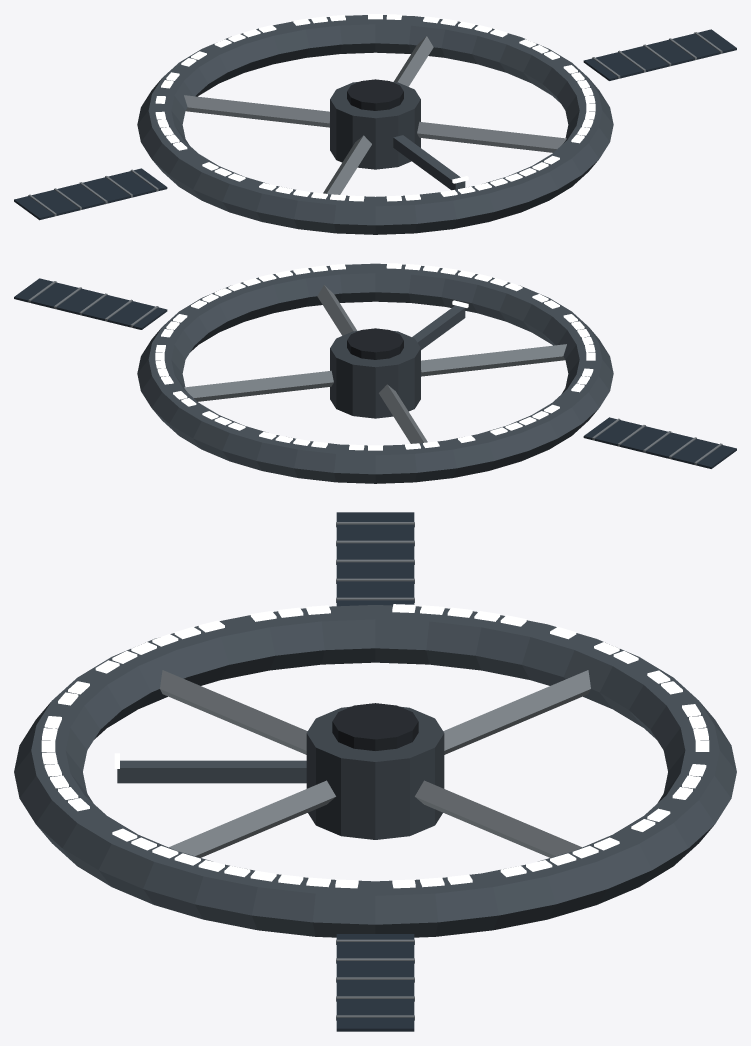
The model's file is od_waystation.glb.
3 renders of one model, top to bottom at view 1: azimuth 30°, elevation 25°; view 2: azimuth 150°, elevation 25°; view 3: azimuth 270°, elevation 25°, orthographic. The views are drawn at different scales.
Parts seen in each view (by area): view 1: od_waystation_body, od_waystation_lit_emit; view 2: od_waystation_body, od_waystation_lit_emit; view 3: od_waystation_body, od_waystation_lit_emit.
Boxes of the visible parts, x1,y1,x2,y2 form: od_waystation_body: (14, 15, 736, 234); od_waystation_lit_emit: (155, 14, 595, 201); od_waystation_body: (14, 263, 736, 483); od_waystation_lit_emit: (155, 263, 595, 450); od_waystation_body: (14, 512, 736, 1031); od_waystation_lit_emit: (41, 604, 709, 888).
Bounding box in the file's own units: 142 × 11.5 × 84.
